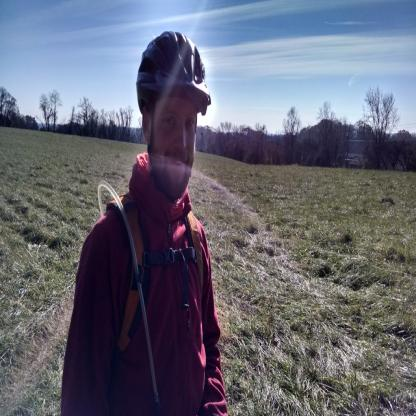Helmet: (134, 31, 210, 148)
